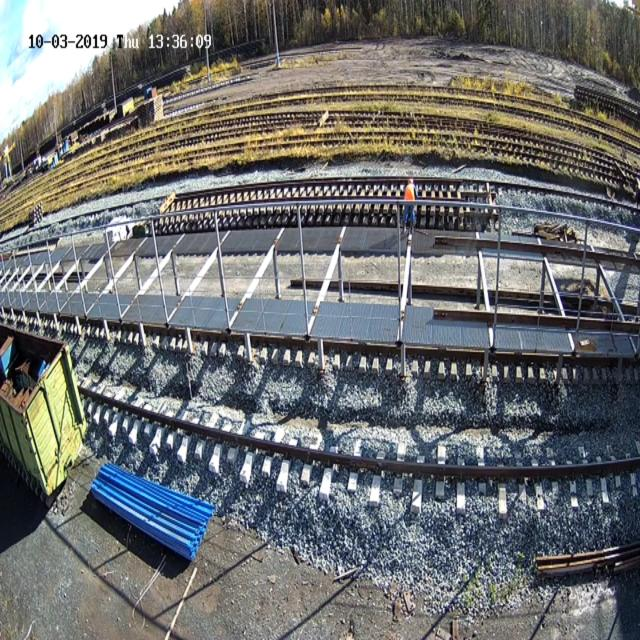Person: (402, 176, 417, 234)
